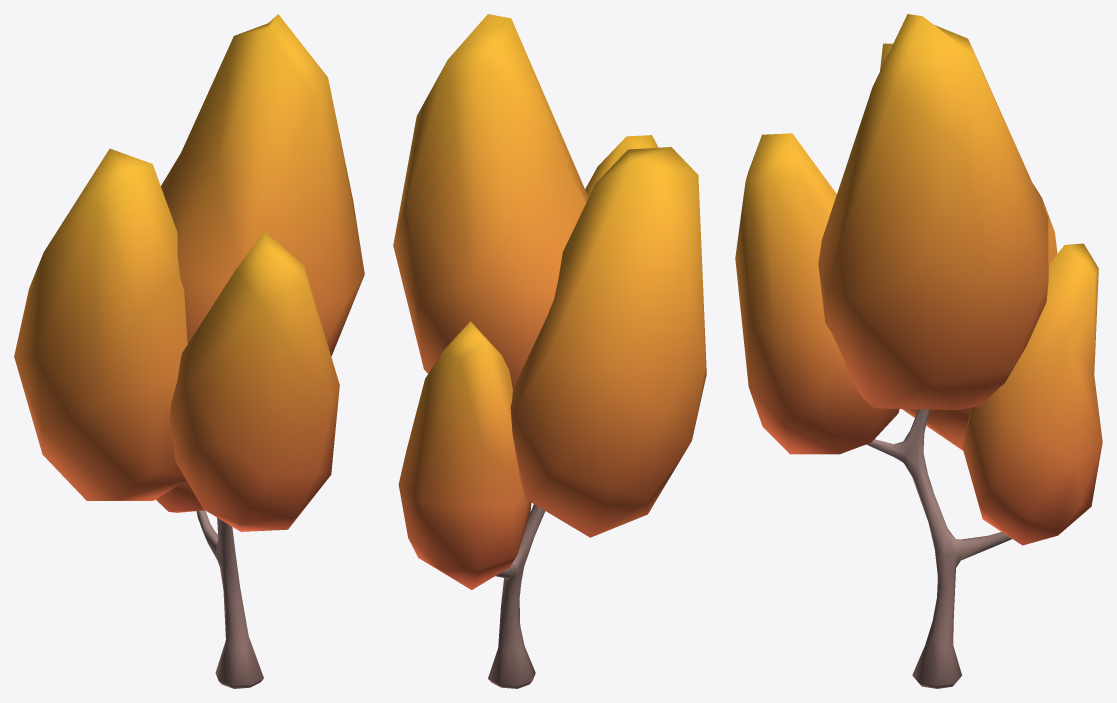
File: Tree01_L_Orange.fbx
3 renders of one model, left to right at view 1: azimuth 30°, elevation 25°; view 2: azimuth 150°, elevation 25°; view 3: azimuth 270°, elevation 25°, orthographic. The views are drawn at different scales.
Parts seen in each view (by area): view 1: Tree01_L_Orange; view 2: Tree01_L_Orange; view 3: Tree01_L_Orange.
Boxes of the visible parts, x1=… form: Tree01_L_Orange: x1=14, y1=14, x2=364, y2=688; Tree01_L_Orange: x1=393, y1=14, x2=706, y2=688; Tree01_L_Orange: x1=735, y1=14, x2=1102, y2=688.
Bounding box in the file's own units: 8.08 × 16.8 × 8.23.
